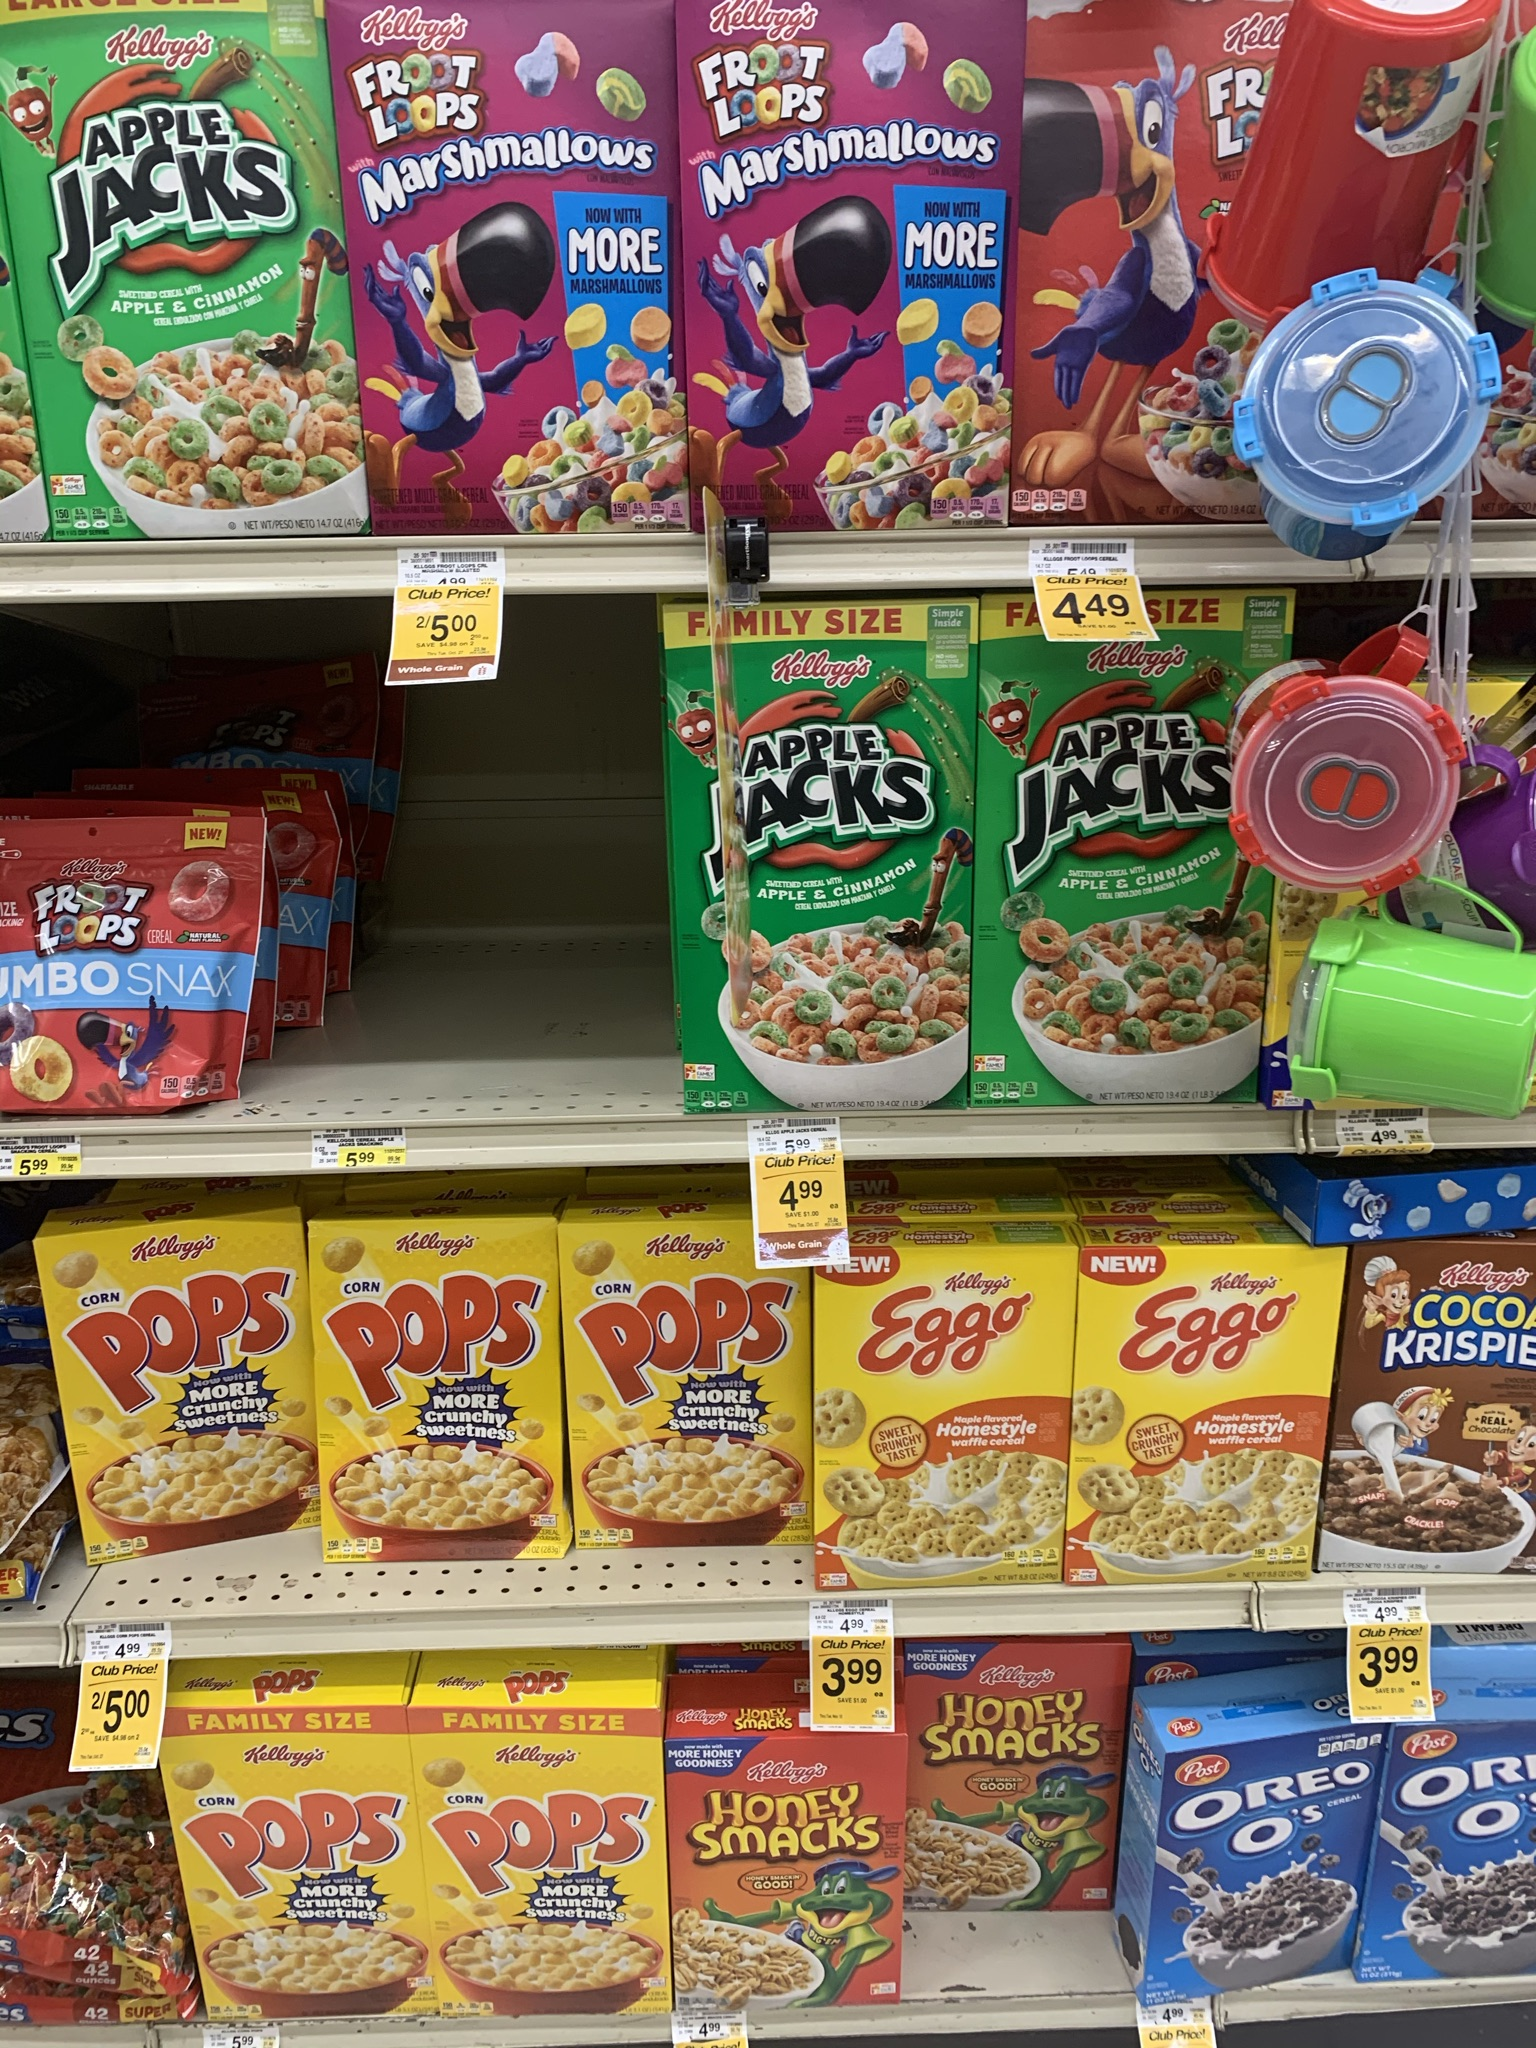cereal: (1025, 19, 1430, 532), (324, 2, 700, 540), (5, 2, 378, 531), (682, 8, 1028, 532), (670, 619, 966, 1109), (987, 598, 1267, 1097), (139, 1708, 424, 2025), (815, 1238, 1066, 1592), (1065, 1242, 1318, 1588), (315, 1218, 558, 1572), (558, 1226, 815, 1558), (410, 1698, 665, 2025), (37, 1235, 308, 1540), (662, 1700, 887, 2019), (1346, 1242, 1536, 1580), (887, 1651, 1120, 1916), (1157, 1751, 1362, 1996), (1363, 1725, 1536, 2000)
